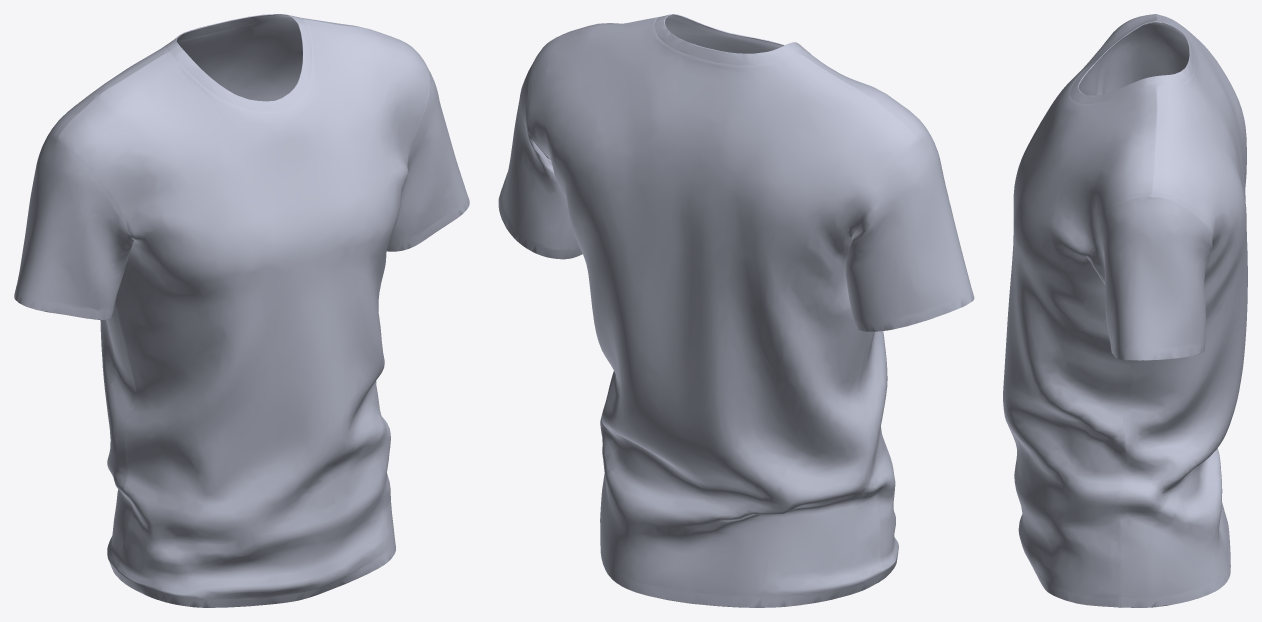
Rendered from shirt_baked_new.glb.
The picture shows the model from 3 angles, left to right: view 1: azimuth 30°, elevation 25°; view 2: azimuth 150°, elevation 25°; view 3: azimuth 270°, elevation 25°; orthographic projection. The views are drawn at different scales.
Parts seen in each view (by area): view 1: T_Shirt_male; view 2: T_Shirt_male; view 3: T_Shirt_male.
Part boxes in pixels (x1,y1,x2,y2): T_Shirt_male: (14, 14, 469, 607); T_Shirt_male: (498, 14, 974, 607); T_Shirt_male: (1003, 14, 1247, 607).
Size of the model in its own units: 0.5502 by 0.613 by 0.269.
